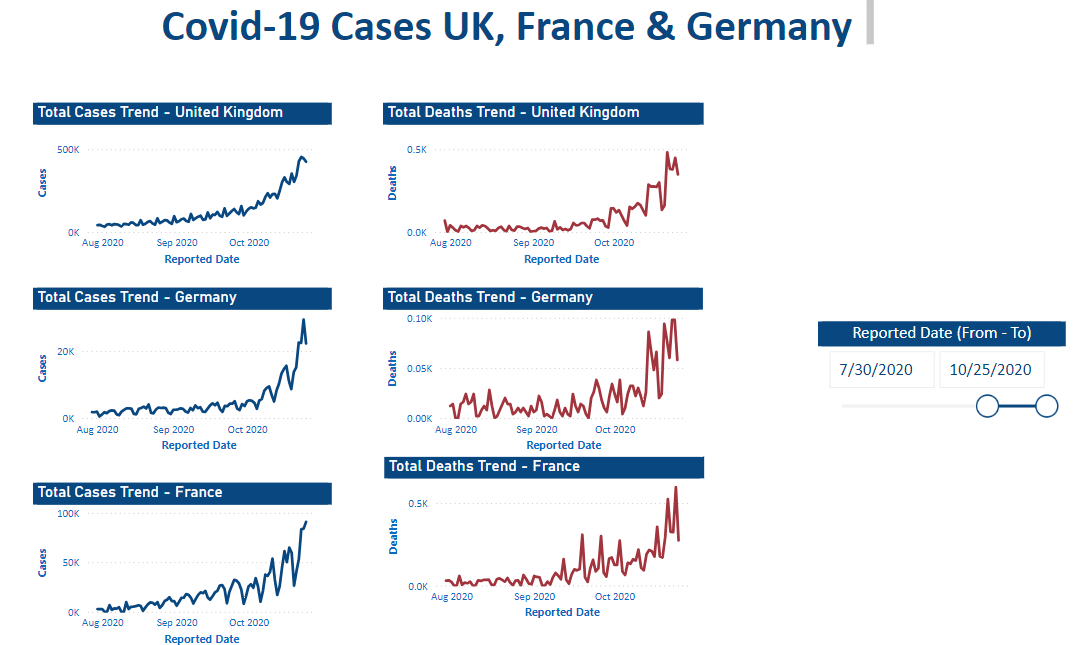

This screenshot's page, from the dashboard's own definition file:
{"tool":"powerbi","page":{"name":"Trends - Country","canvas":[1280,720],"ordinal":1},"visuals":[{"type":"lineChart","title":"Total Cases Trend - United Kingdom","fields":{"Category":["covid_reporting cases_and_deaths.reported_date"],"Y":["Sum(covid_reporting cases_and_deaths.cases_count)"]},"box":[104,120,328,184],"z":0},{"type":"slicer","title":"Reported Date (From - To)","fields":{"Values":["covid_reporting cases_and_deaths.reported_date"]},"box":[966,359.5,271.7,112.5],"z":1000},{"type":"lineChart","title":"Total Cases Trend - France","fields":{"Category":["covid_reporting cases_and_deaths.reported_date"],"Y":["Sum(covid_reporting cases_and_deaths.cases_count)"]},"box":[104.3,536.5,328,183.9],"z":2000},{"type":"lineChart","title":"Total Cases Trend - Germany","fields":{"Category":["covid_reporting cases_and_deaths.reported_date"],"Y":["Sum(covid_reporting cases_and_deaths.cases_count)"]},"box":[104.3,322.5,328,185.2],"z":3000},{"type":"lineChart","title":"Total Deaths Trend - United Kingdom","fields":{"Category":["covid_reporting cases_and_deaths.reported_date"],"Y":["Sum(covid_reporting cases_and_deaths.deaths_count)"]},"box":[488,120,352,184],"z":4000},{"type":"lineChart","title":"Total Deaths Trend - France","fields":{"Category":["covid_reporting cases_and_deaths.reported_date"],"Y":["Sum(covid_reporting cases_and_deaths.deaths_count)"]},"box":[489.9,507.7,351.3,183.9],"z":5000},{"type":"lineChart","title":"Total Deaths Trend - Germany","fields":{"Category":["covid_reporting cases_and_deaths.reported_date"],"Y":["Sum(covid_reporting cases_and_deaths.deaths_count)"]},"box":[488.5,322.5,351.3,185.2],"z":6000},{"type":"textbox","box":[240,0,792,64],"z":7000}]}

Visuals, with their boxes on the page's 1280x720 design canvas (x1, y1, x2, y2). These are canvas units, not pixel positions in the 1087x645 screenshot, which may show the page scaled, cropped or inside an application window:
"Total Cases Trend - United Kingdom" lineChart: (104,120,432,304)
"Reported Date (From - To)" slicer: (966,360,1238,472)
"Total Cases Trend - France" lineChart: (104,536,432,720)
"Total Cases Trend - Germany" lineChart: (104,322,432,508)
"Total Deaths Trend - United Kingdom" lineChart: (488,120,840,304)
"Total Deaths Trend - France" lineChart: (490,508,841,692)
"Total Deaths Trend - Germany" lineChart: (488,322,840,508)
textbox: (240,0,1032,64)
